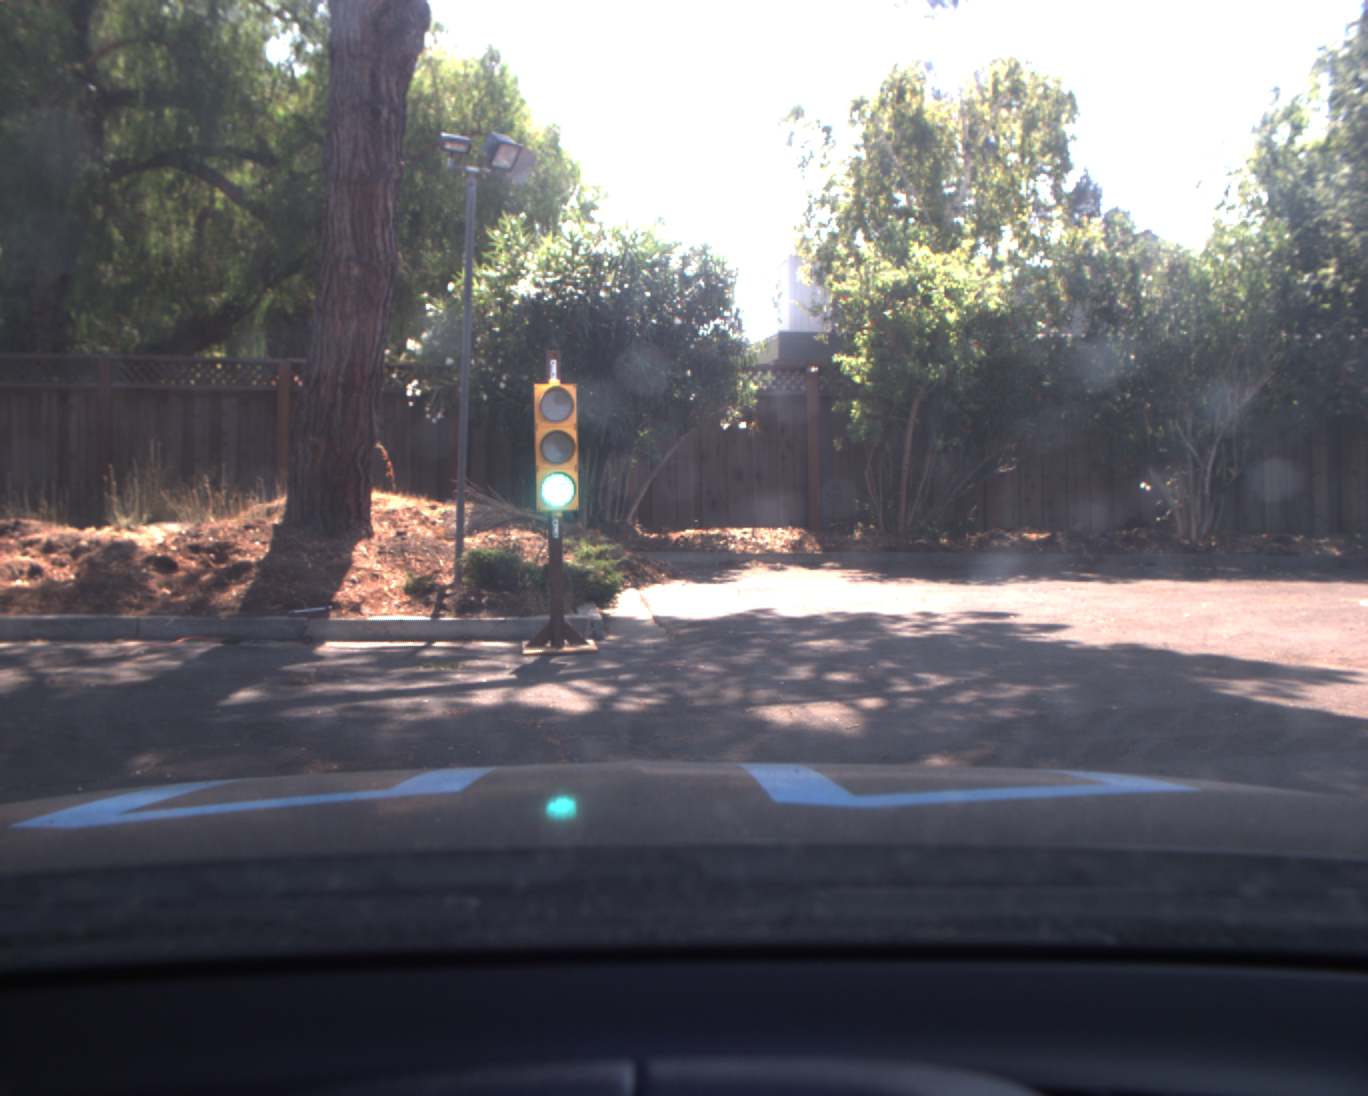green: (529, 377, 584, 517)
